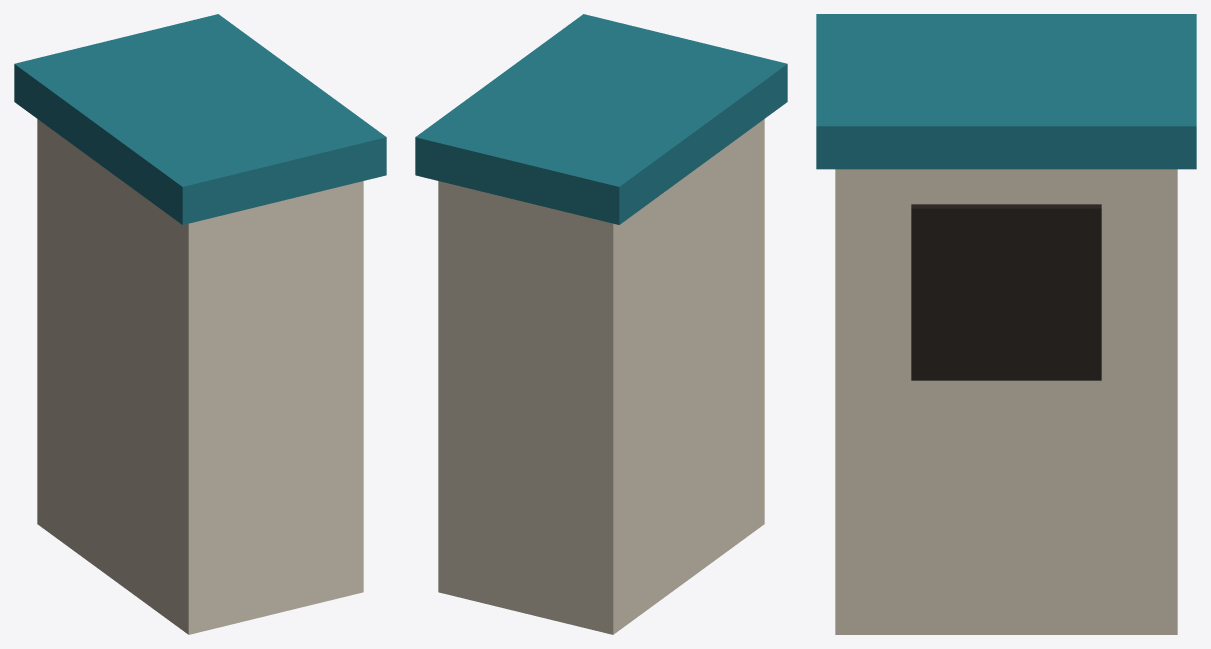
The model's file is malqaf.glb.
3 renders of one model, left to right at view 1: azimuth 30°, elevation 25°; view 2: azimuth 150°, elevation 25°; view 3: azimuth 270°, elevation 25°, orthographic. The views are drawn at different scales.
Visible parts, largest first — view 1: malqaf; view 2: malqaf; view 3: malqaf.
Part boxes in pixels (bbox=[...]): malqaf: bbox=[14, 14, 386, 634]; malqaf: bbox=[415, 14, 787, 634]; malqaf: bbox=[816, 14, 1196, 634].
Bounding box in the file's own units: 0.28 × 0.6 × 0.4.
